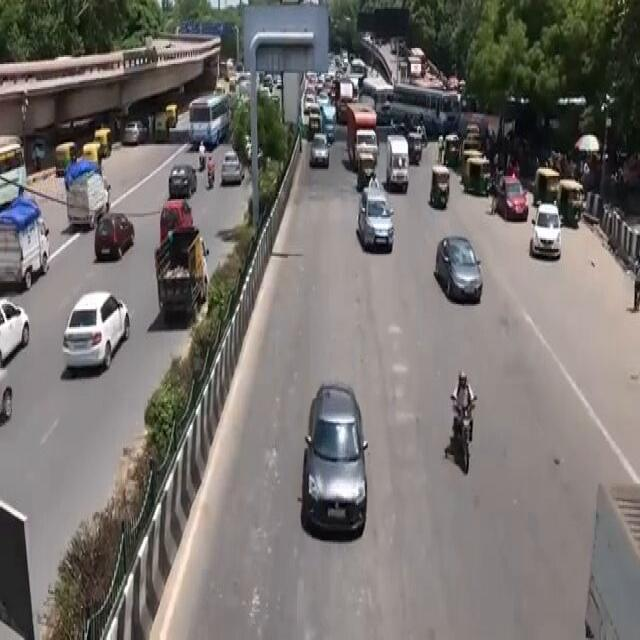three_wheeler: (420, 153, 452, 220)
